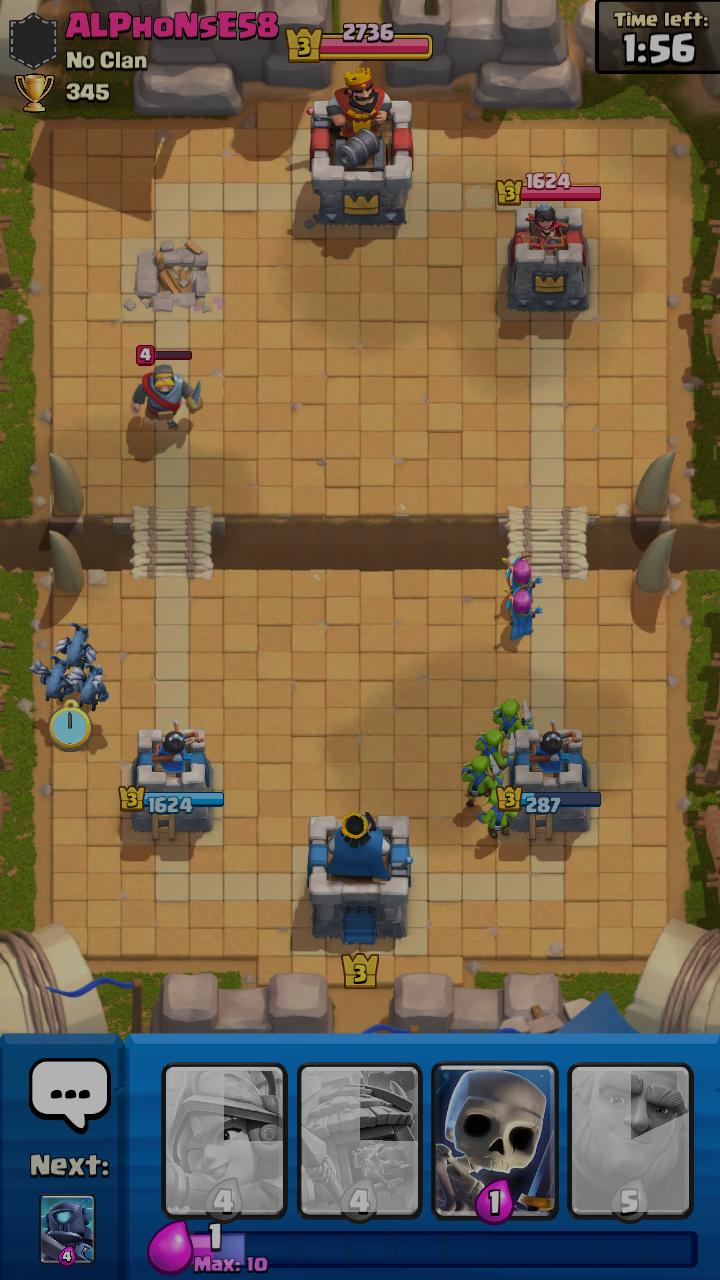ally: (502, 584, 543, 641), (461, 754, 504, 807), (29, 655, 75, 703), (477, 788, 519, 839), (502, 554, 543, 604), (55, 623, 97, 670), (70, 664, 109, 711), (492, 698, 534, 739), (475, 729, 516, 770)
enemy: (131, 345, 204, 432)
